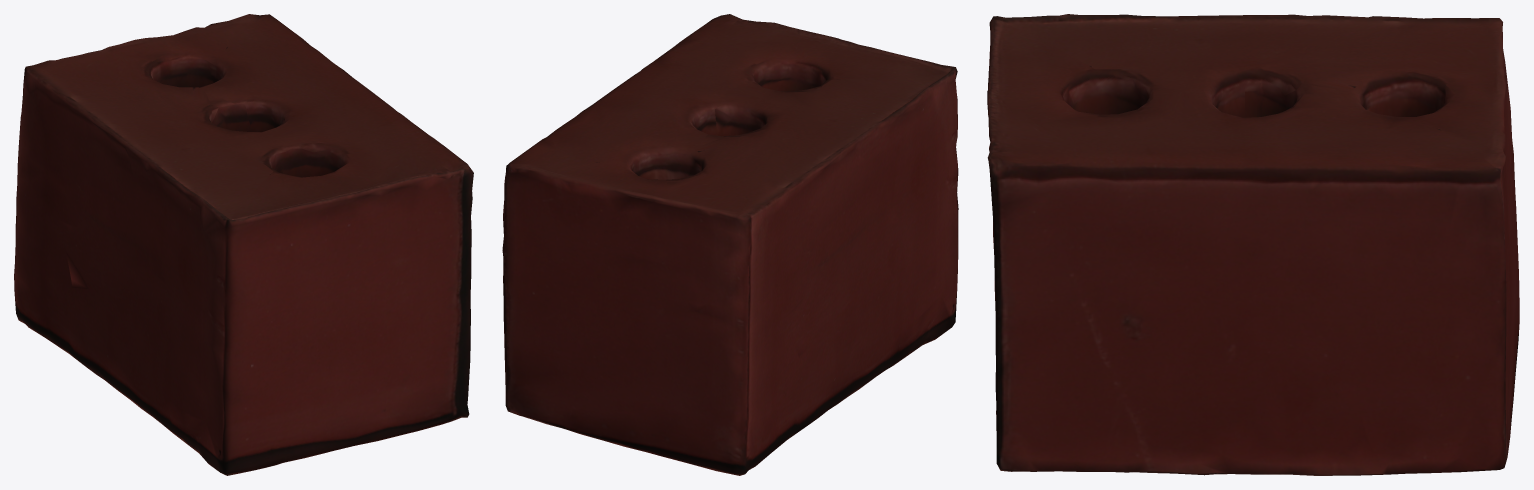
The model's file is ground_truth.glb.
The picture shows the model from 3 angles, left to right: view 1: azimuth 30°, elevation 25°; view 2: azimuth 150°, elevation 25°; view 3: azimuth 270°, elevation 25°; orthographic projection. The views are drawn at different scales.
Visible parts, largest first — view 1: textured.064; view 2: textured.064; view 3: textured.064.
Boxes of the visible parts, <box> form: textured.064: <box>14,14,473,475</box>; textured.064: <box>502,14,958,475</box>; textured.064: <box>987,14,1519,475</box>.
Size of the model in its own units: 0.0526 by 0.0511 by 0.0778.
Materials: 1 (1 with a texture image).
